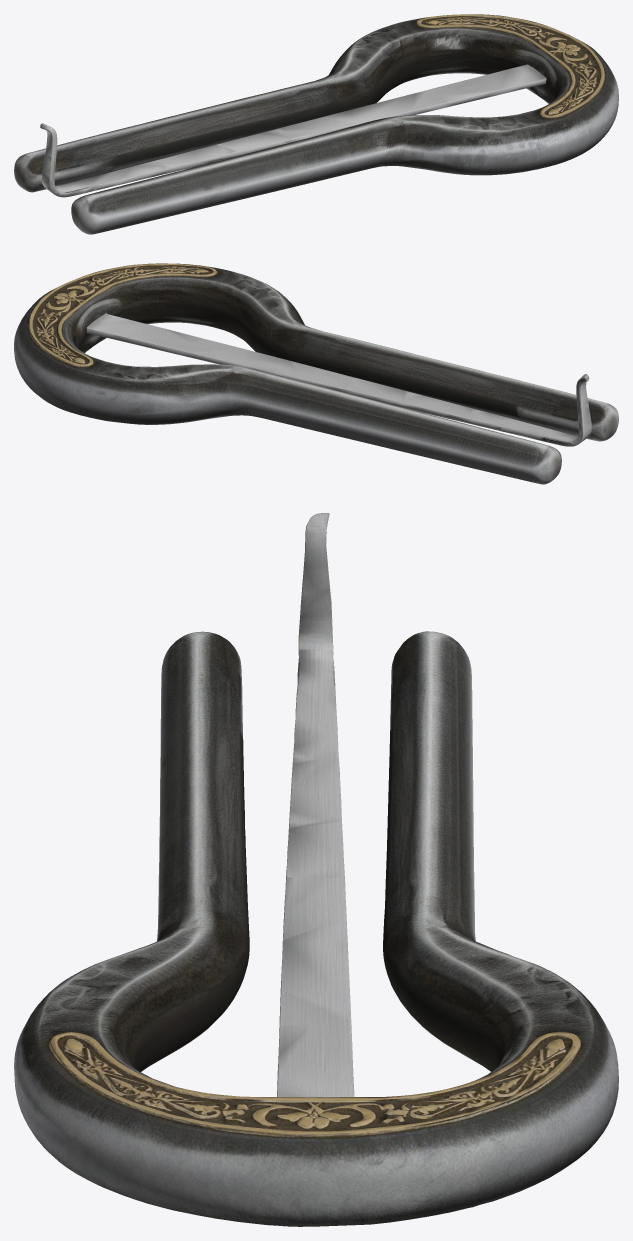
The model's file is shankobyz.glb.
The picture shows the model from 3 angles, top to bottom: view 1: azimuth 30°, elevation 25°; view 2: azimuth 150°, elevation 25°; view 3: azimuth 270°, elevation 25°; orthographic projection. The views are drawn at different scales.
Bounding box in the file's own units: 1.9 × 0.3199 × 0.9112.
Materials: 1 (1 with a texture image).
